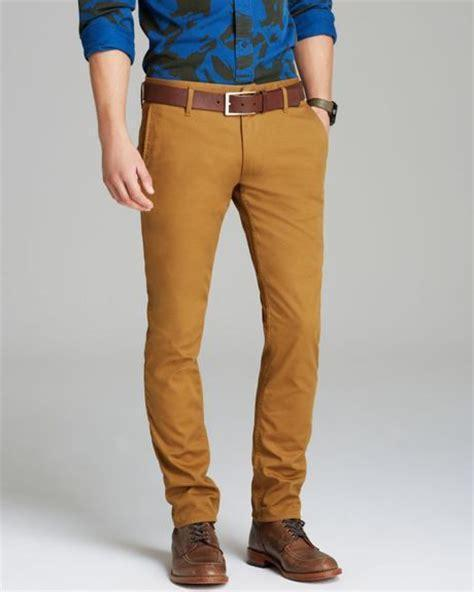pants: (135, 75, 326, 532)
